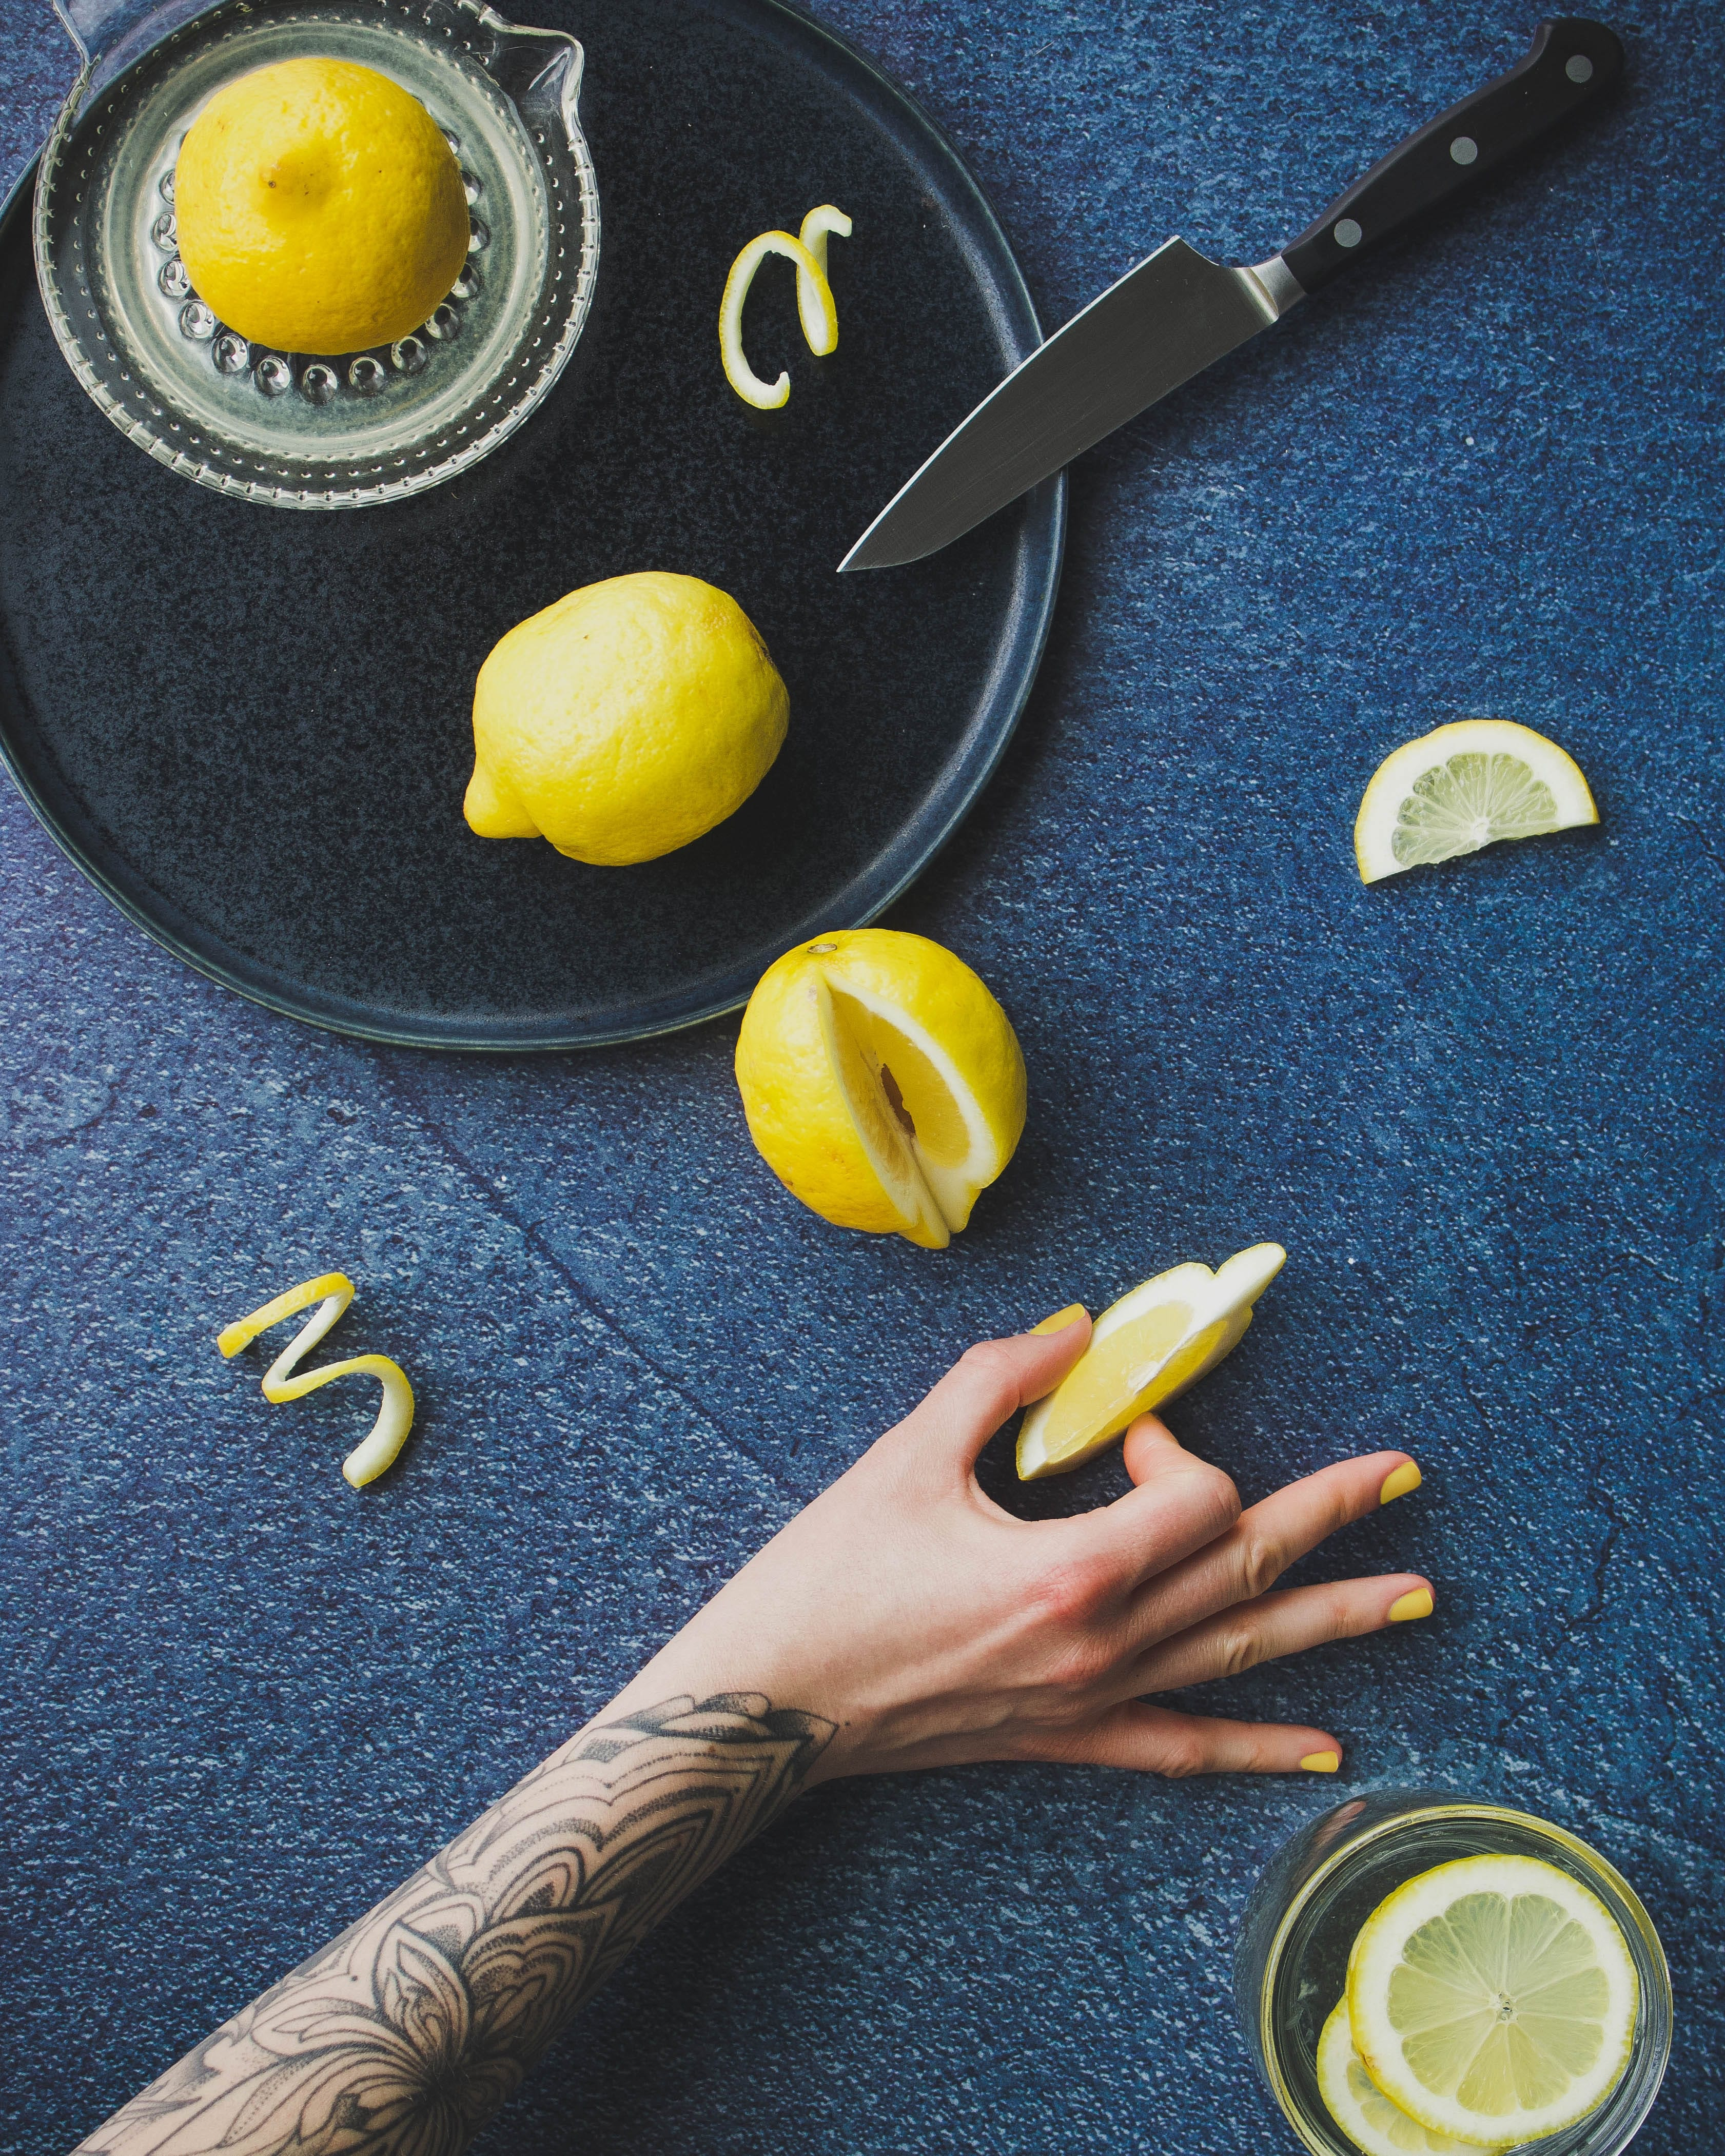knife: (797, 21, 1667, 593)
